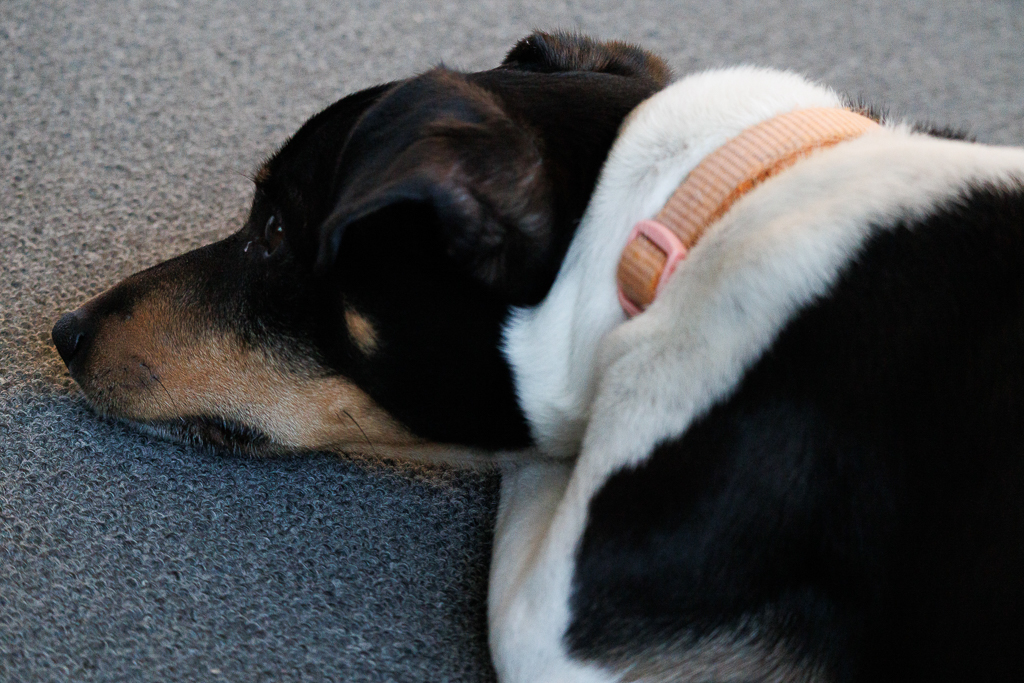Dog: (43, 20, 1024, 683)
